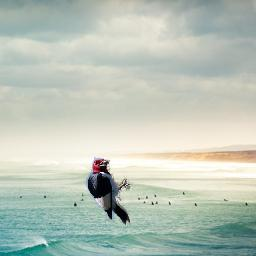Woodpecker: (87, 155, 134, 228)
